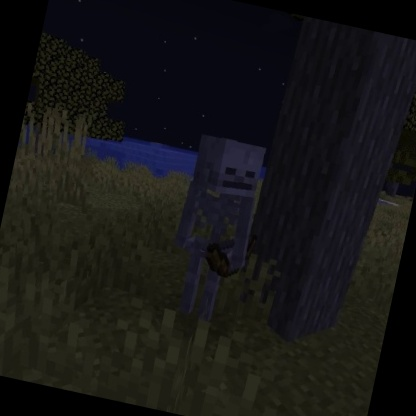skeleton: (155, 126, 281, 328)
